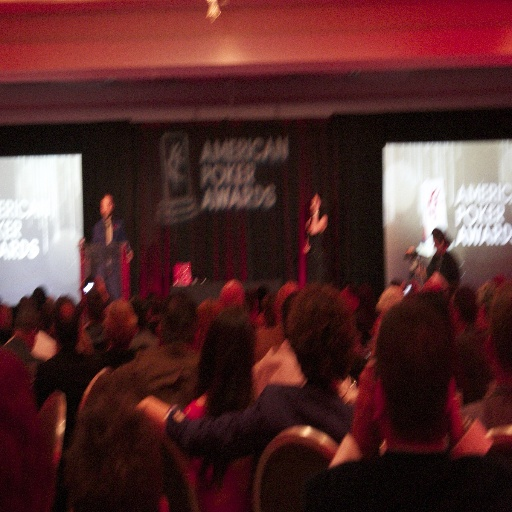hand: (124, 396, 179, 460), (312, 193, 319, 210), (126, 250, 133, 265), (78, 238, 86, 250)
